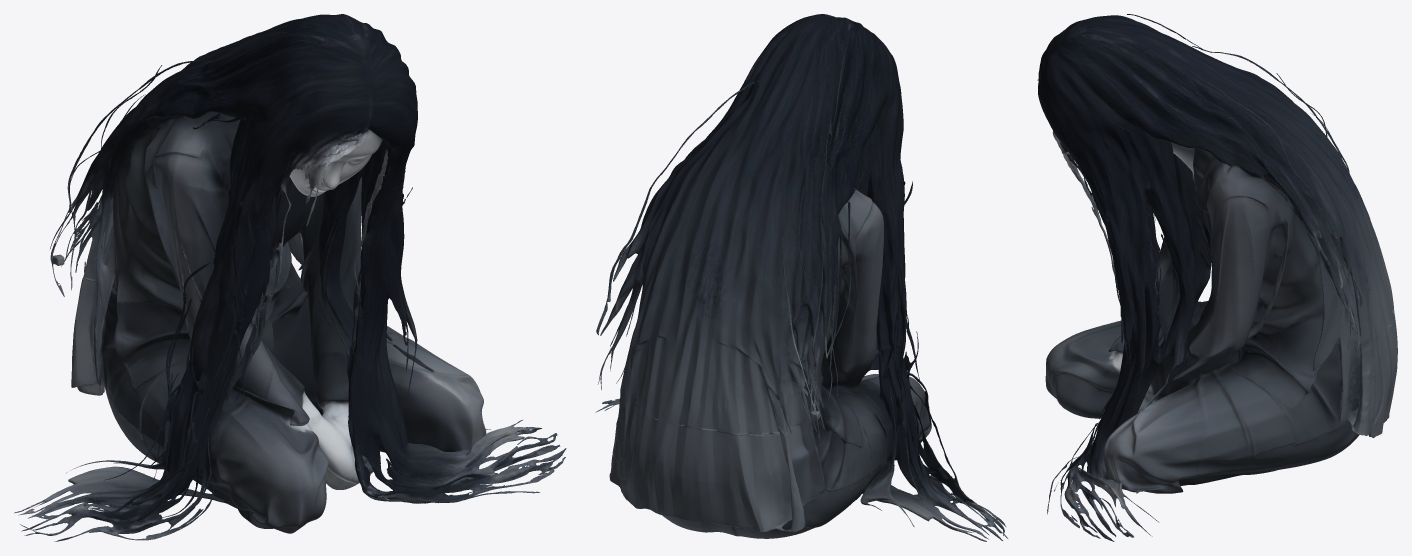
The model's file is co-hon.glb.
3 renders of one model, left to right at view 1: azimuth 30°, elevation 25°; view 2: azimuth 150°, elevation 25°; view 3: azimuth 270°, elevation 25°, orthographic. The views are drawn at different scales.
Size of the model in its own units: 0.9978 by 0.933 by 0.7259.
1 material, 1 textured.
